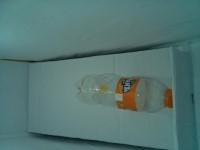bottle: (73, 73, 176, 113)
